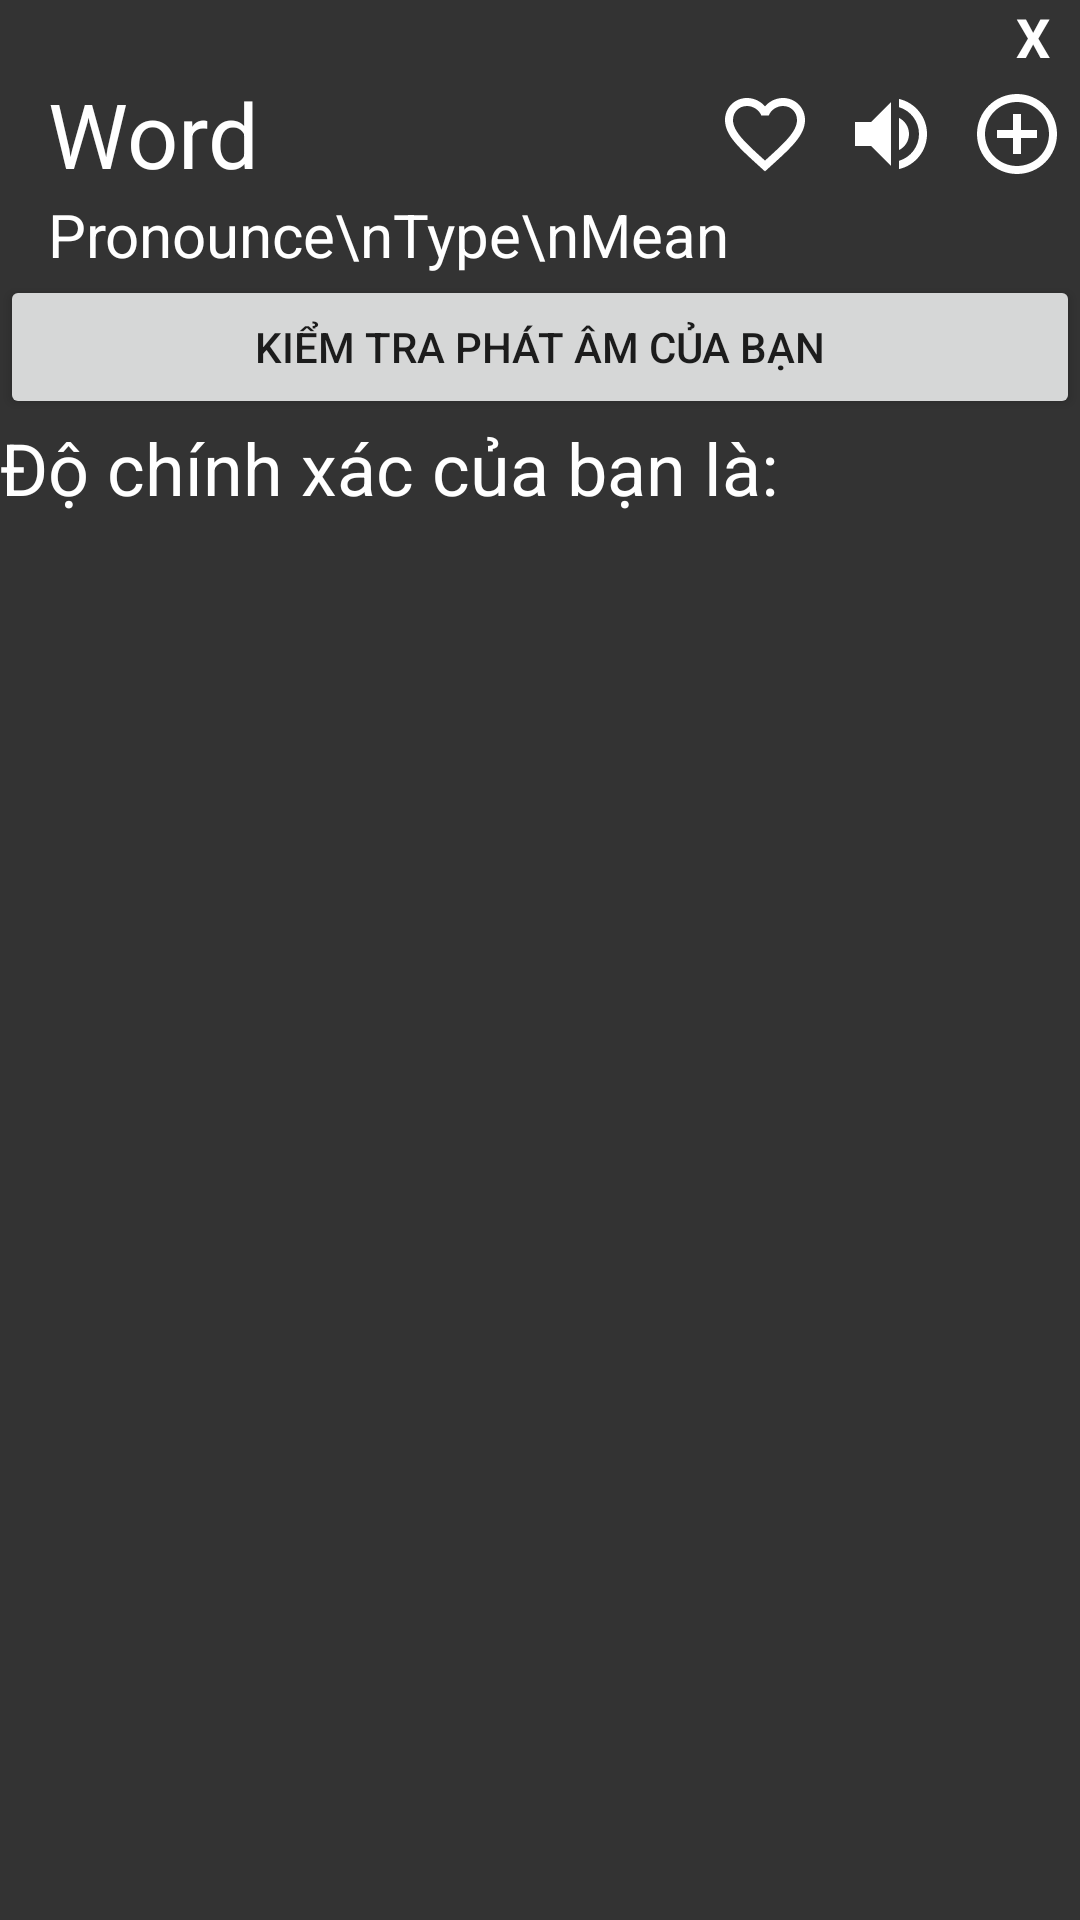

Icon bounding boxes for this 1080w x 1920h phone screenshot, format (x1, y1, x2, y2):
add circle: (977, 94, 1057, 174)
favorite border: (725, 98, 805, 171)
volume up: (855, 99, 927, 169)
